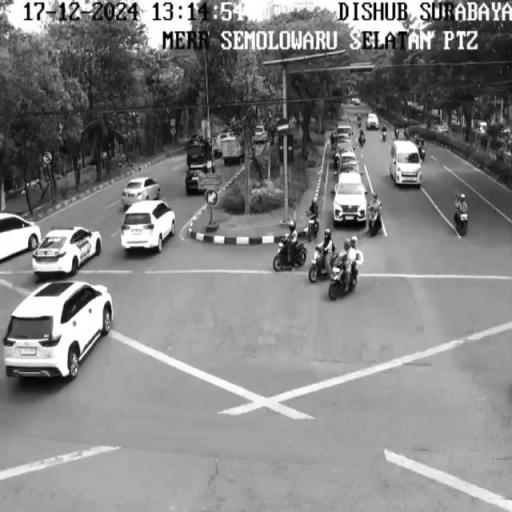bus: (392, 140, 420, 187)
car: (3, 279, 116, 383), (32, 228, 101, 278), (122, 200, 176, 256), (333, 172, 367, 227), (2, 218, 37, 262), (119, 175, 163, 207)
motorcycle: (326, 261, 362, 303), (310, 249, 338, 287), (274, 244, 306, 274), (458, 210, 471, 239)
